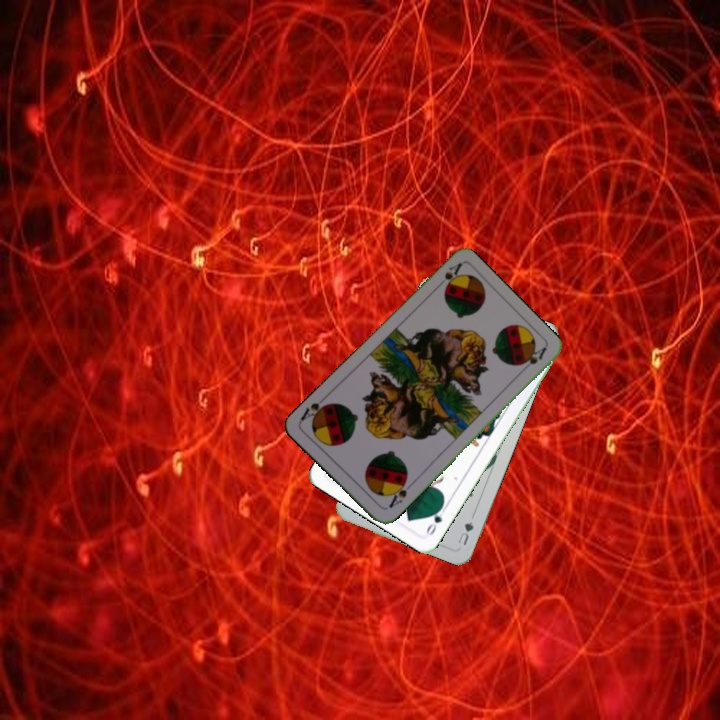GO: (422, 500, 449, 539)
GU: (454, 517, 476, 548)
SA: (431, 259, 464, 294), (384, 475, 410, 511)
